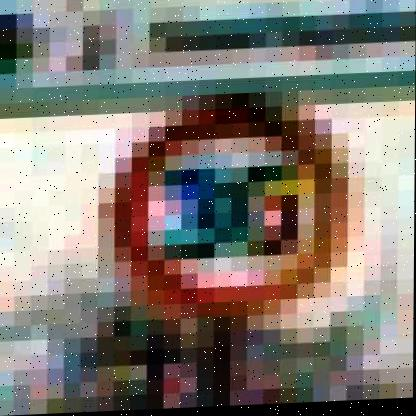Speed Limit -30-: (104, 89, 352, 324)
